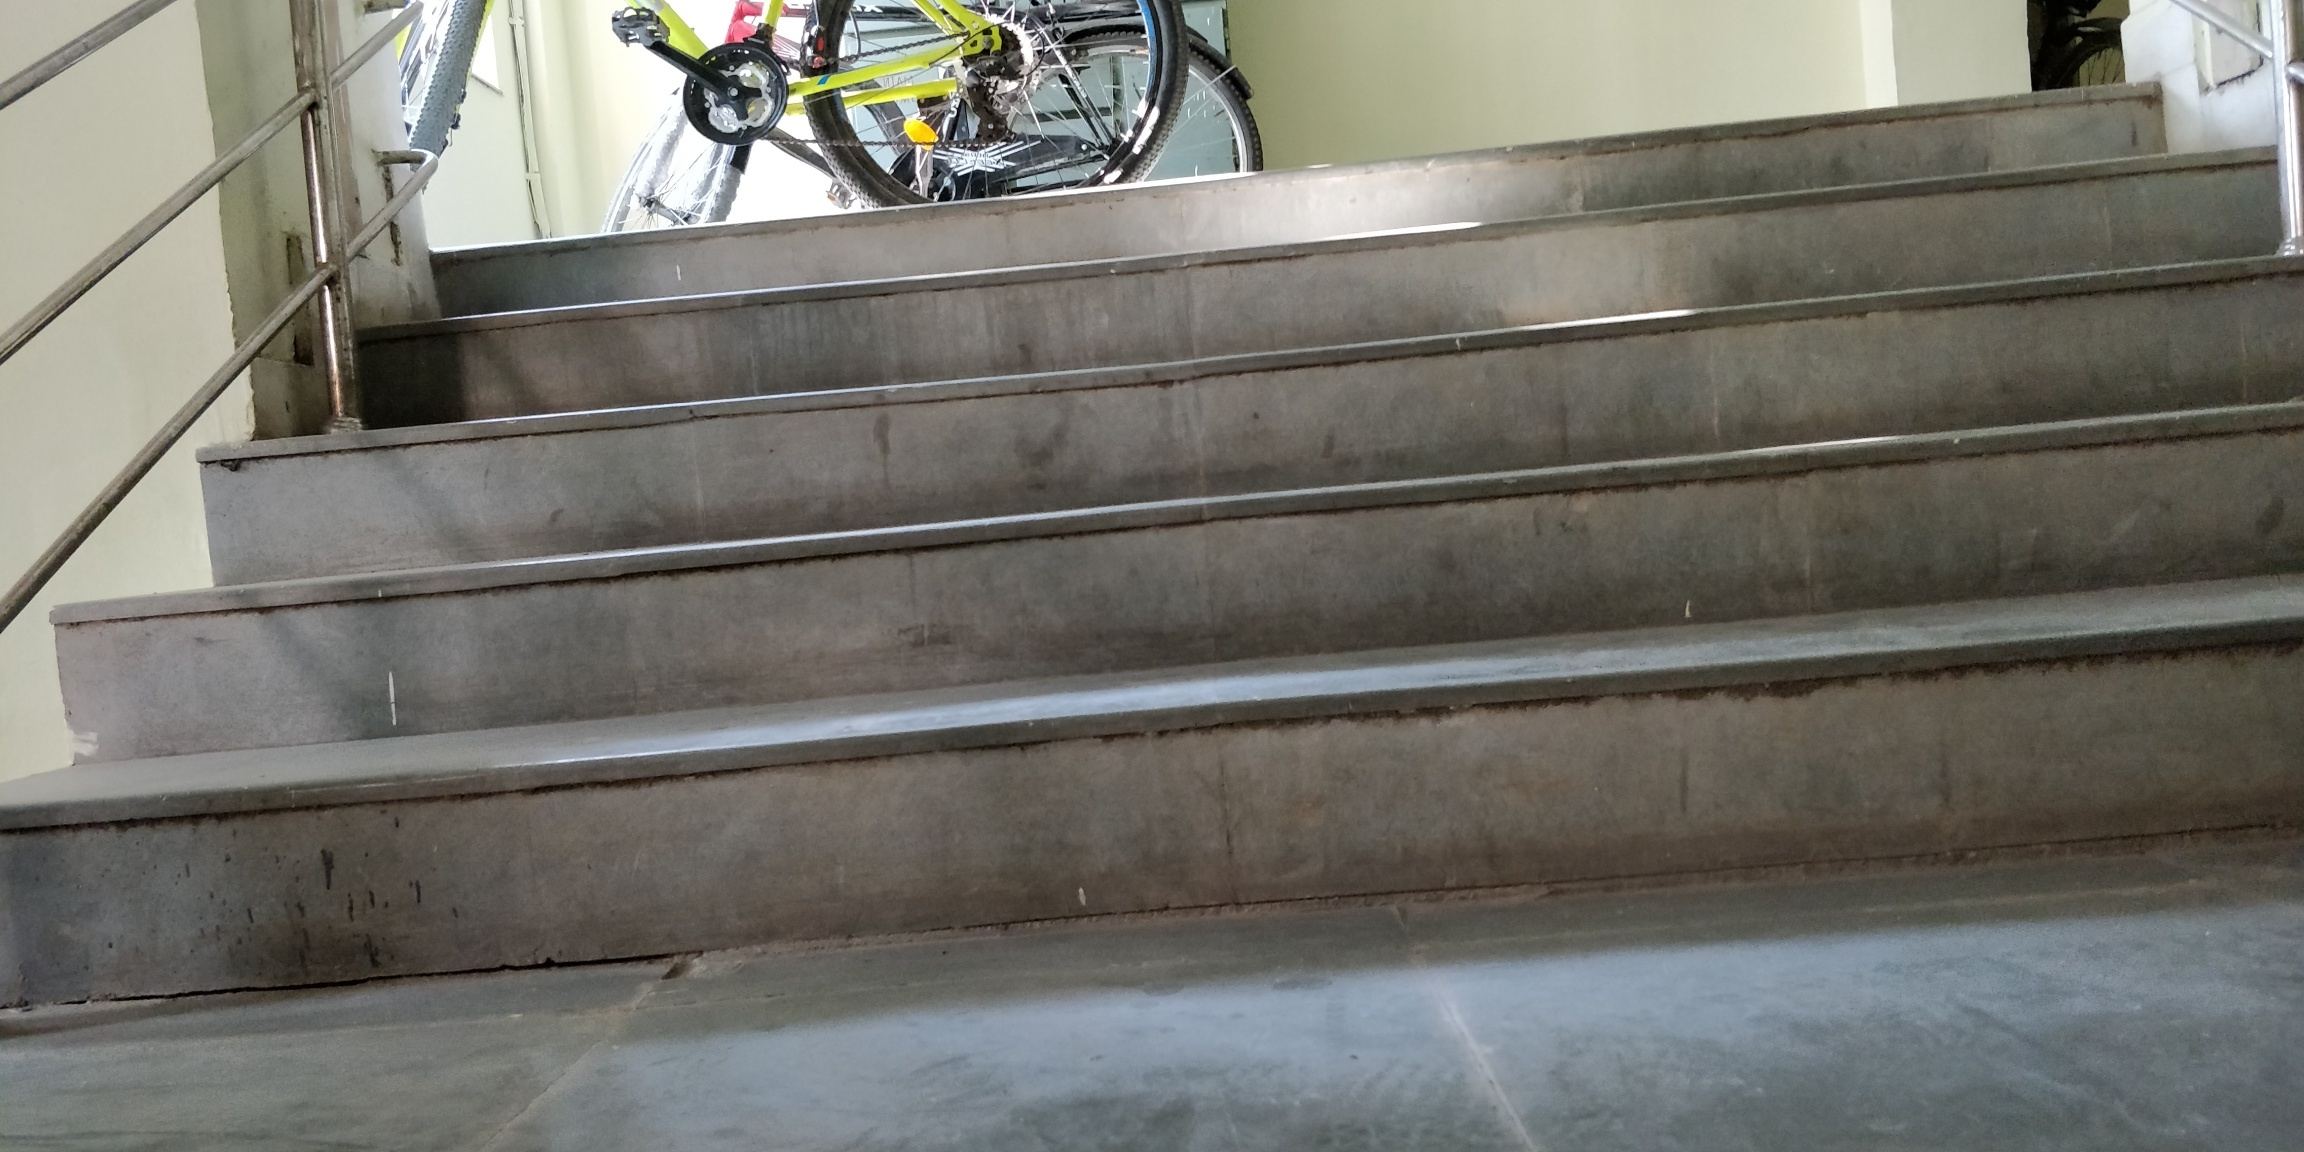stairs_up: (209, 170, 2266, 896)
